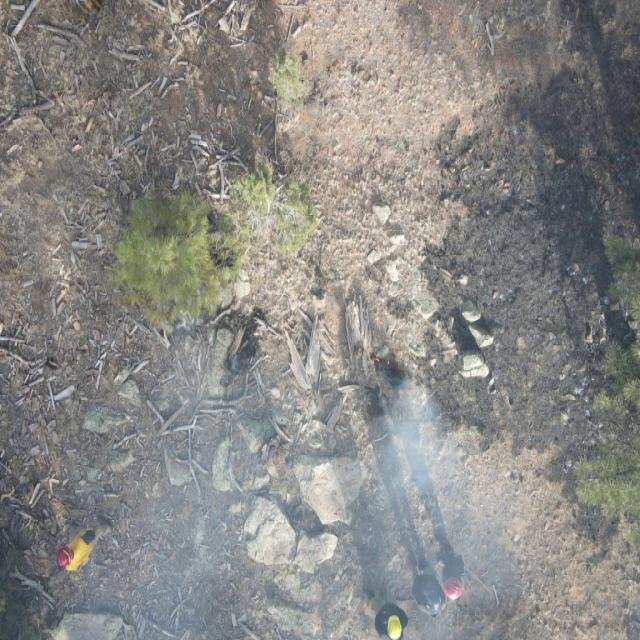fire: (365, 344, 393, 374), (358, 397, 378, 412)
smoke: (58, 340, 521, 638)
